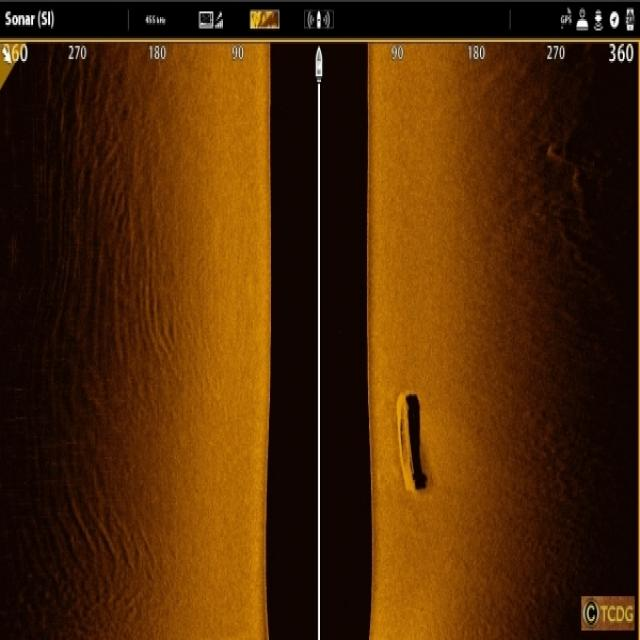ship: (391, 383, 418, 495)
